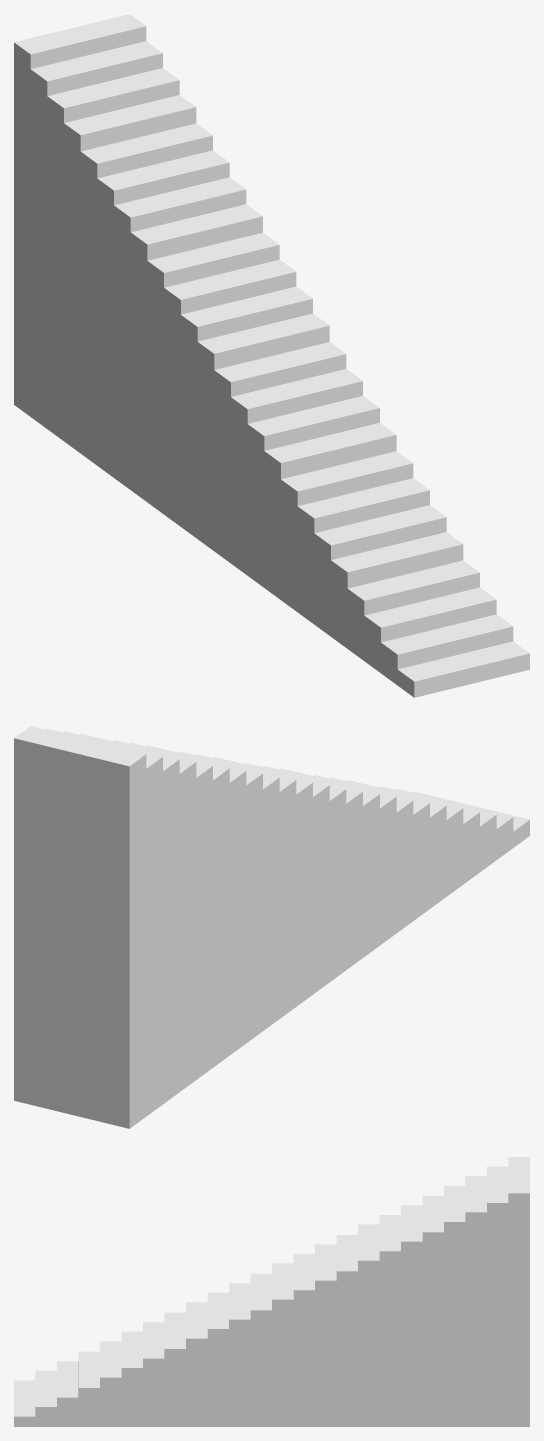
Rendered from SM_Buildings_Stairs_1x3_01.glb.
3 views of the same model, one above another, from view 1: azimuth 30°, elevation 25°; view 2: azimuth 150°, elevation 25°; view 3: azimuth 270°, elevation 25° (orthographic). The views are drawn at different scales.
Parts seen in each view (by area): view 1: SM_Buildings_Stairs_1x3_01; view 2: SM_Buildings_Stairs_1x3_01; view 3: SM_Buildings_Stairs_1x3_01.
Part boxes in pixels (x1,y1,x2,y2): SM_Buildings_Stairs_1x3_01: (14, 14, 529, 697); SM_Buildings_Stairs_1x3_01: (14, 726, 529, 1128); SM_Buildings_Stairs_1x3_01: (14, 1157, 529, 1426).
Size of the model in its own units: 1 by 3 by 6.
1 material, 1 textured.
